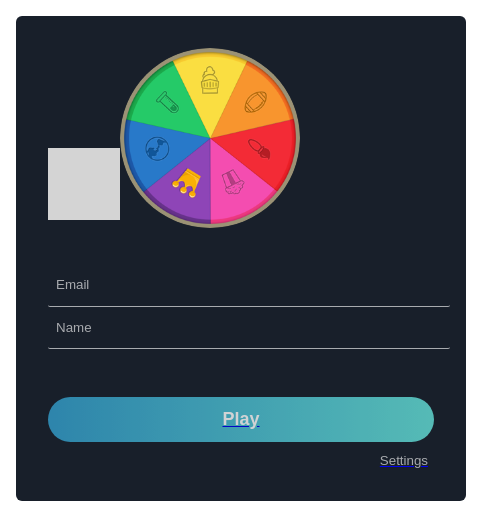
it: Testa página de Login › 6 - Testa se apenas ao digitar os dados corretamente, o botão Play torna-se clicável
Type "teste" into the field with placeholder "Email".
click(249, 285); type("teste")  # box [48,264,450,307]
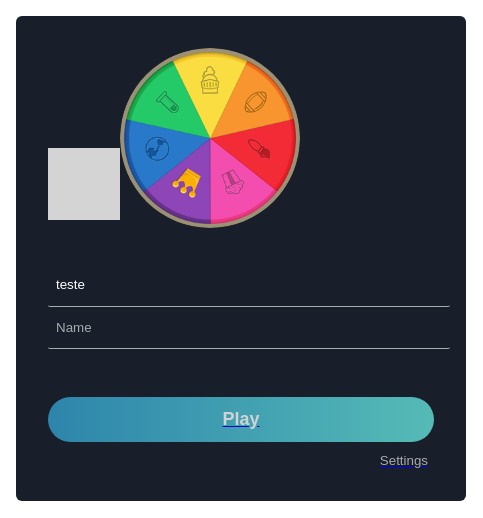
Expected: the button "Play" is disabled, [48,397,434,442]
Type "teste@email.com" into the field with placeholder "Email".
click(249, 285); type("teste@email.com")  # box [48,264,450,307]
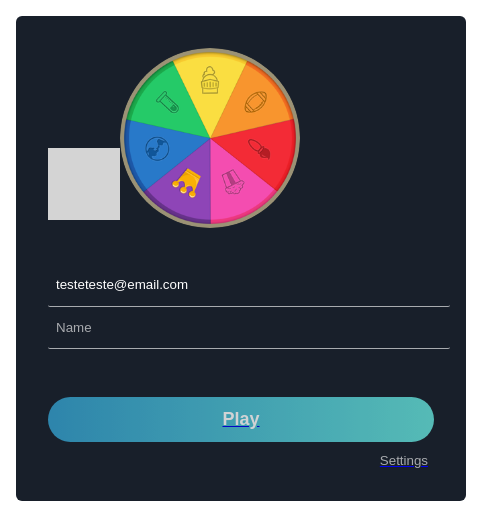
Type "Testezinho da Silva" into the field with placeholder "Name".
click(249, 328); type("Testezinho da Silva")  # box [48,307,450,349]
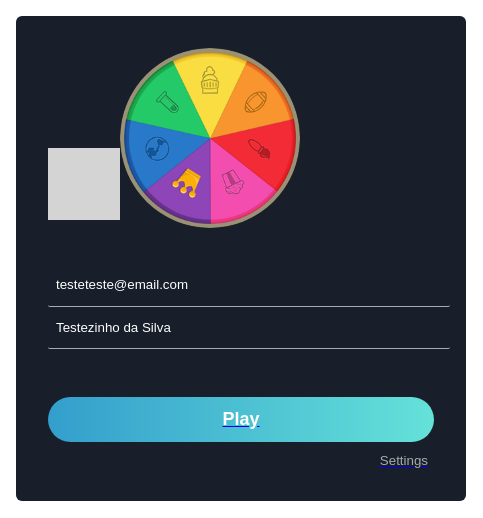
Expected: the button "Play" is enabled, [48,397,434,442]
